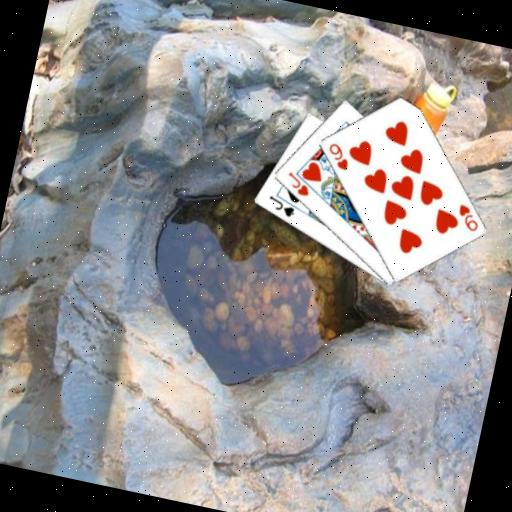9H: (321, 138, 353, 172), (451, 200, 483, 233)
JH: (281, 168, 314, 198)
JS: (262, 191, 298, 219)
